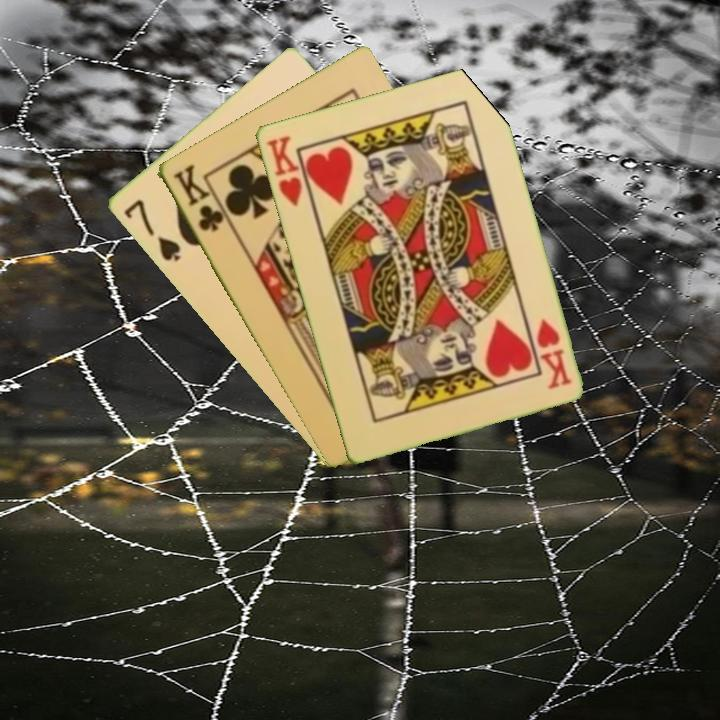7s: (119, 195, 184, 265)
Kc: (168, 161, 226, 235)
Kh: (262, 132, 314, 209), (532, 314, 574, 392)
